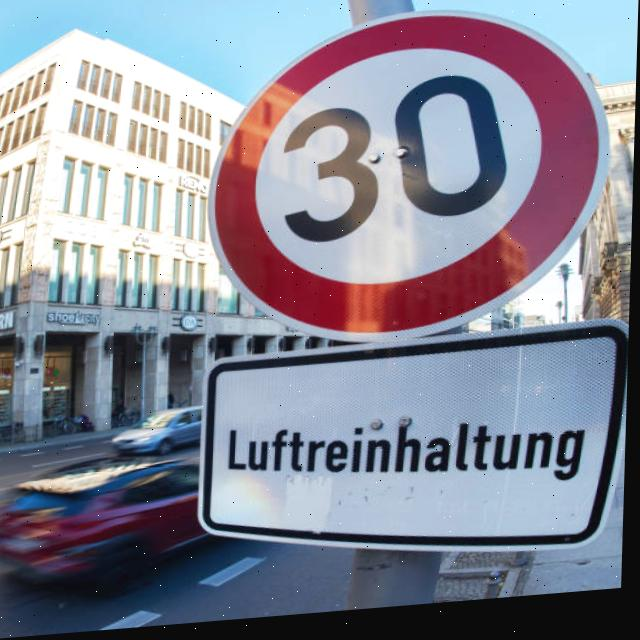Speed limit 30: (203, 4, 618, 361)
